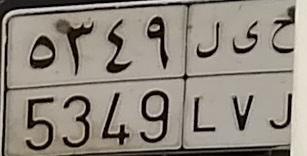3: (61, 19, 94, 148)
4: (100, 18, 132, 146)
5: (24, 34, 57, 151)
9: (139, 15, 169, 144)
J: (269, 16, 293, 130)
L: (193, 20, 220, 134)
V: (231, 19, 259, 132)
